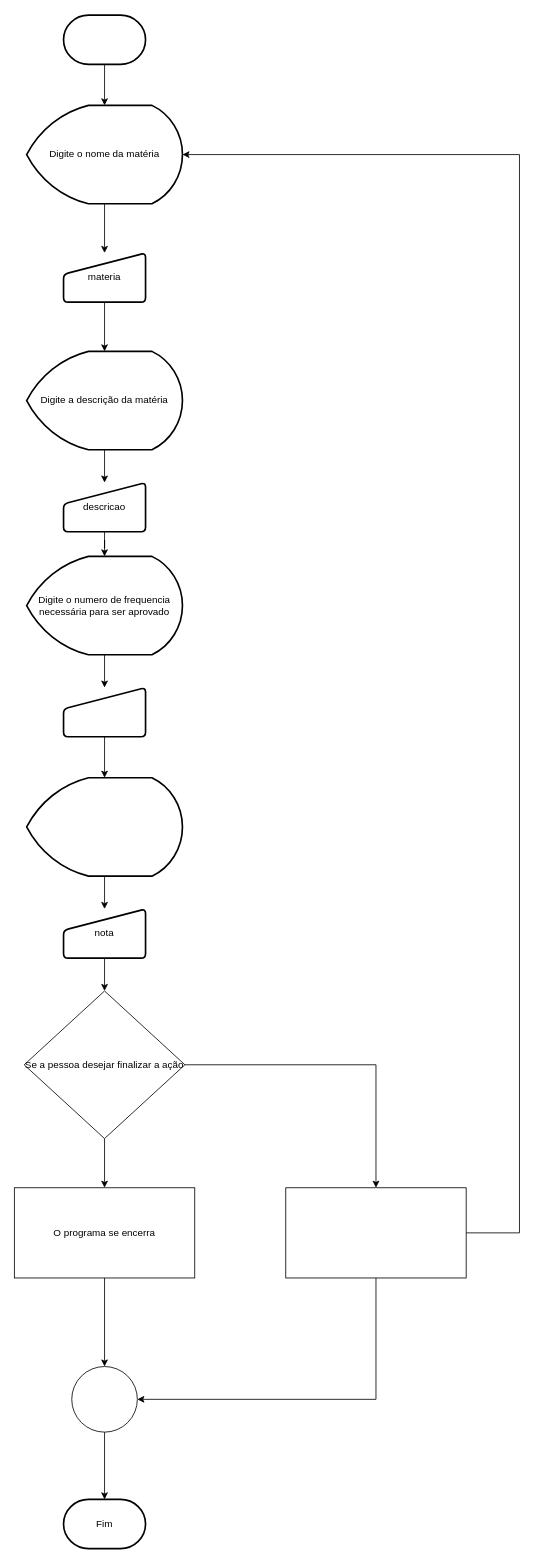
This 540x1563 diagram has some shape labels left out. Each missing label, with the box of its shape:
Digite o número da nota necessária para ser aprovado: (25, 777, 183, 877)
frequencia: (62, 686, 146, 737)
Inicio: (62, 14, 146, 65)
O programa volta do começo: (285, 1187, 466, 1278)
